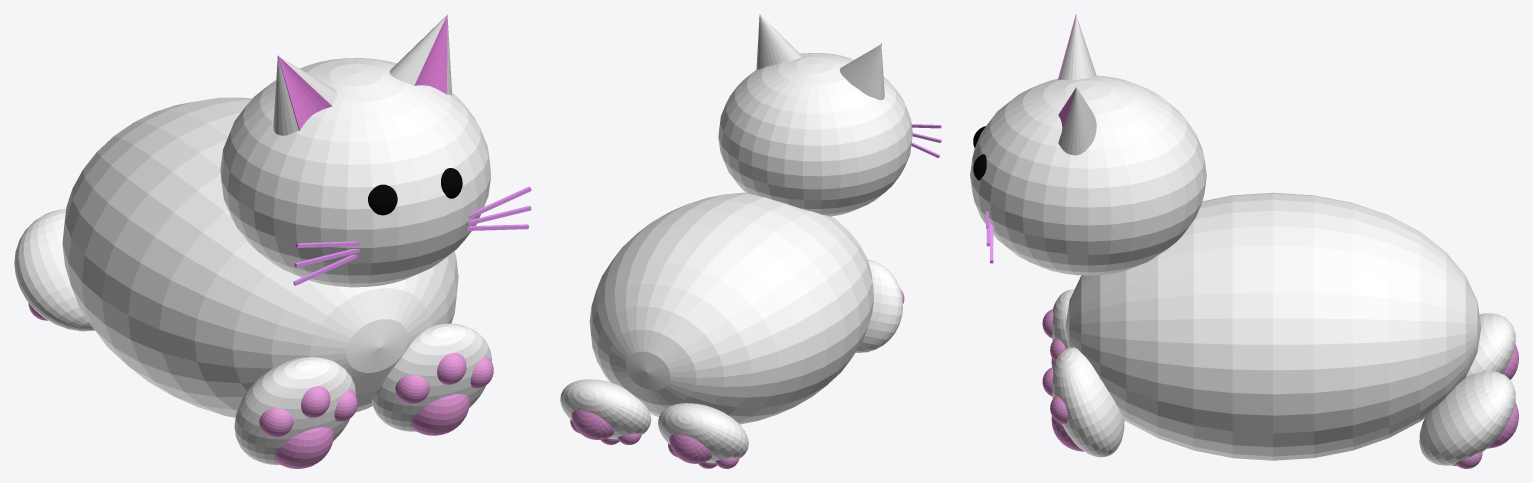
File: cat.fbx
The picture shows the model from 3 angles, left to right: view 1: azimuth 30°, elevation 25°; view 2: azimuth 150°, elevation 25°; view 3: azimuth 270°, elevation 25°; orthographic projection. The views are drawn at different scales.
Parts seen in each view (by area): view 1: 구체, 구체.021, 구체.011, 구체.001, 구체.008, 구체.009, 구체.004, 원뿔.005, 원뿔.003, 원뿔.006, 원뿔.002, 구체.007 (+7 smaller); view 2: 구체, 구체.021, 구체.008, 구체.020, 구체.011, 원뿔.005, 원뿔.003, 구체.013, 구체.017; view 3: 구체, 구체.021, 구체.020, 구체.001, 구체.008, 원뿔.003, 원뿔.005, 구체.011.
Boxes of the visible parts, bbox=[...] form: 구체: bbox=[62, 97, 458, 417]; 구체.021: bbox=[220, 58, 490, 287]; 구체.011: bbox=[234, 357, 355, 464]; 구체.001: bbox=[372, 323, 491, 431]; 구체.008: bbox=[14, 209, 94, 331]; 구체.009: bbox=[275, 427, 334, 468]; 구체.004: bbox=[411, 394, 470, 435]; 원뿔.005: bbox=[273, 56, 337, 135]; 원뿔.003: bbox=[389, 15, 451, 95]; 원뿔.006: bbox=[277, 55, 332, 130]; 원뿔.002: bbox=[414, 14, 447, 94]; 구체.007: bbox=[259, 408, 293, 437]; 구체: bbox=[589, 192, 873, 424]; 구체.021: bbox=[718, 53, 912, 216]; 구체.008: bbox=[658, 403, 748, 463]; 구체.020: bbox=[560, 379, 651, 439]; 구체.011: bbox=[856, 259, 902, 352]; 원뿔.005: bbox=[840, 44, 884, 100]; 원뿔.003: bbox=[756, 15, 801, 69]; 구체.013: bbox=[669, 433, 711, 463]; 구체.017: bbox=[571, 410, 614, 439]; 구체: bbox=[1065, 192, 1481, 460]; 구체.021: bbox=[970, 75, 1206, 275]; 구체.020: bbox=[1419, 371, 1515, 465]; 구체.001: bbox=[1052, 347, 1124, 457]; 구체.008: bbox=[1466, 313, 1515, 376]; 원뿔.003: bbox=[1058, 87, 1096, 155]; 원뿔.005: bbox=[1058, 15, 1096, 80]; 구체.011: bbox=[1052, 289, 1074, 348].
Bounding box in the file's own units: 100 × 134 × 172.
